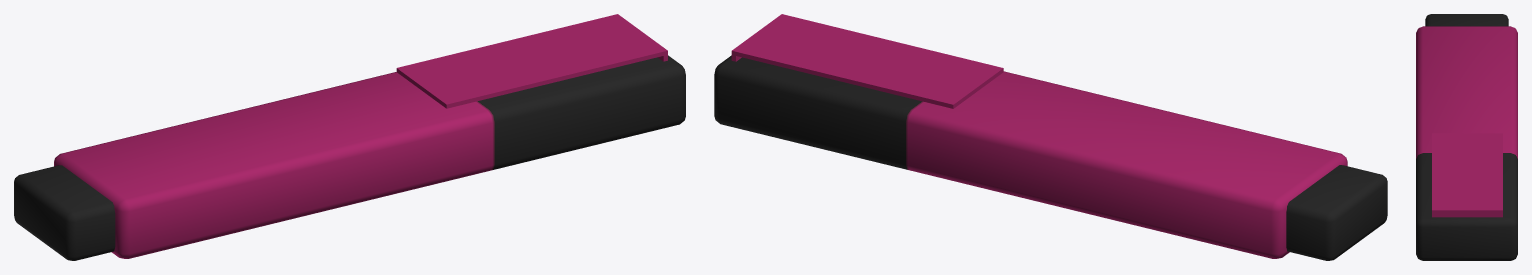
The model's file is marker pink.FBX.
3 renders of one model, left to right at view 1: azimuth 30°, elevation 25°; view 2: azimuth 150°, elevation 25°; view 3: azimuth 270°, elevation 25°, orthographic. The views are drawn at different scales.
Parts seen in each view (by area): view 1: marker pink; view 2: marker pink; view 3: marker pink.
Part boxes in pixels (x1,y1,x2,y2): marker pink: [14, 14, 685, 260]; marker pink: [714, 14, 1387, 260]; marker pink: [1416, 14, 1517, 260].
Bounding box in the file's own units: 4.72 × 0.954 × 0.5144.
1 material, 1 textured.
